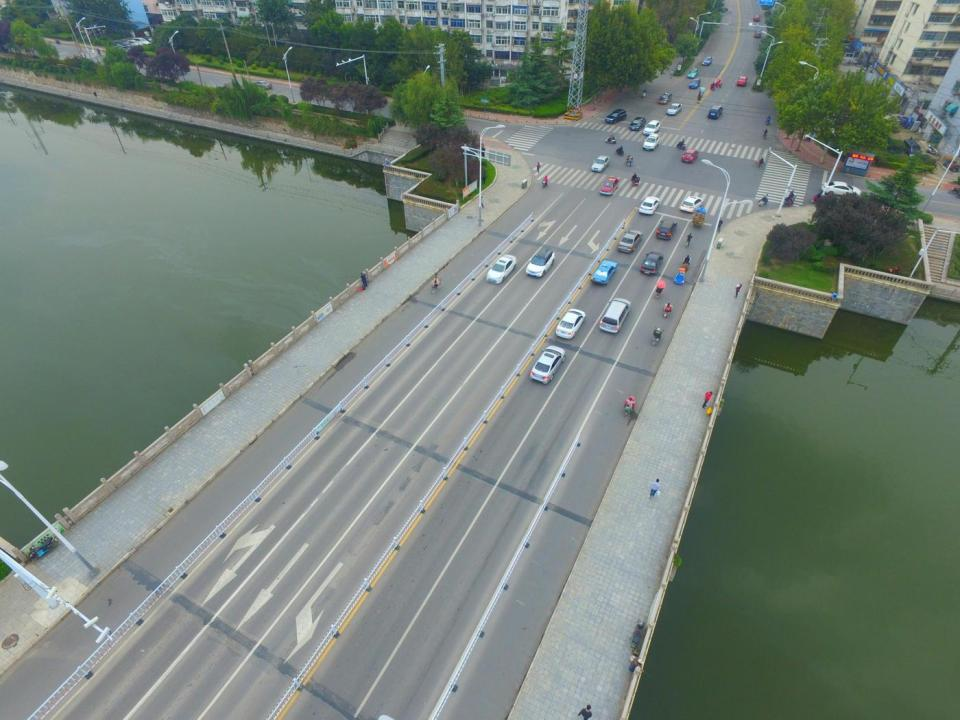car: (529, 345, 567, 385), (597, 296, 636, 334), (484, 253, 519, 284), (555, 307, 585, 340), (586, 258, 618, 288), (526, 248, 558, 276), (822, 180, 862, 198), (638, 250, 665, 276), (614, 228, 642, 253), (598, 173, 623, 197), (677, 193, 705, 214), (653, 219, 679, 241), (637, 192, 660, 214), (603, 107, 627, 125), (590, 153, 610, 172), (641, 133, 660, 151), (643, 120, 661, 136), (252, 78, 273, 91), (628, 115, 646, 130), (110, 40, 130, 53), (658, 91, 675, 106), (125, 37, 143, 51), (708, 104, 724, 119), (666, 101, 682, 115), (115, 40, 134, 51), (134, 37, 152, 47), (687, 78, 702, 89), (687, 67, 699, 79), (701, 54, 712, 67), (736, 75, 748, 86), (145, 36, 157, 44), (754, 29, 762, 37), (752, 13, 760, 21)
van: (904, 138, 923, 160)
